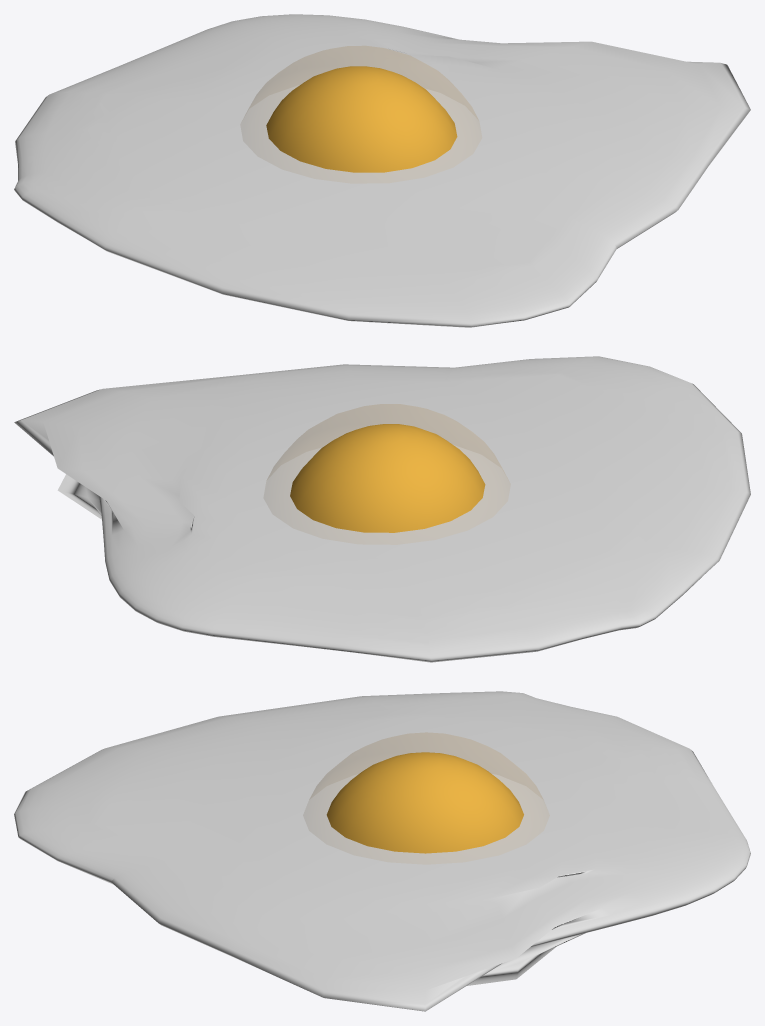
File: overEasyEgg.fbx
The picture shows the model from 3 angles, top to bottom: view 1: azimuth 30°, elevation 25°; view 2: azimuth 150°, elevation 25°; view 3: azimuth 270°, elevation 25°; orthographic projection. The views are drawn at different scales.
Parts seen in each view (by area): view 1: pSphere1, pSphere2, pSphere3; view 2: pSphere1, pSphere2, pSphere3; view 3: pSphere1, pSphere2, pSphere3.
Part boxes in pixels (x1,y1,x2,y2): pSphere1: [14, 14, 750, 327]; pSphere2: [266, 66, 457, 172]; pSphere3: [243, 46, 478, 120]; pSphere1: [14, 356, 750, 662]; pSphere2: [290, 424, 485, 532]; pSphere3: [267, 404, 508, 480]; pSphere1: [14, 691, 750, 1011]; pSphere2: [326, 752, 523, 853]; pSphere3: [309, 732, 543, 799].
Bounding box in the file's own units: 0.2528 × 0.0427 × 0.2474.
